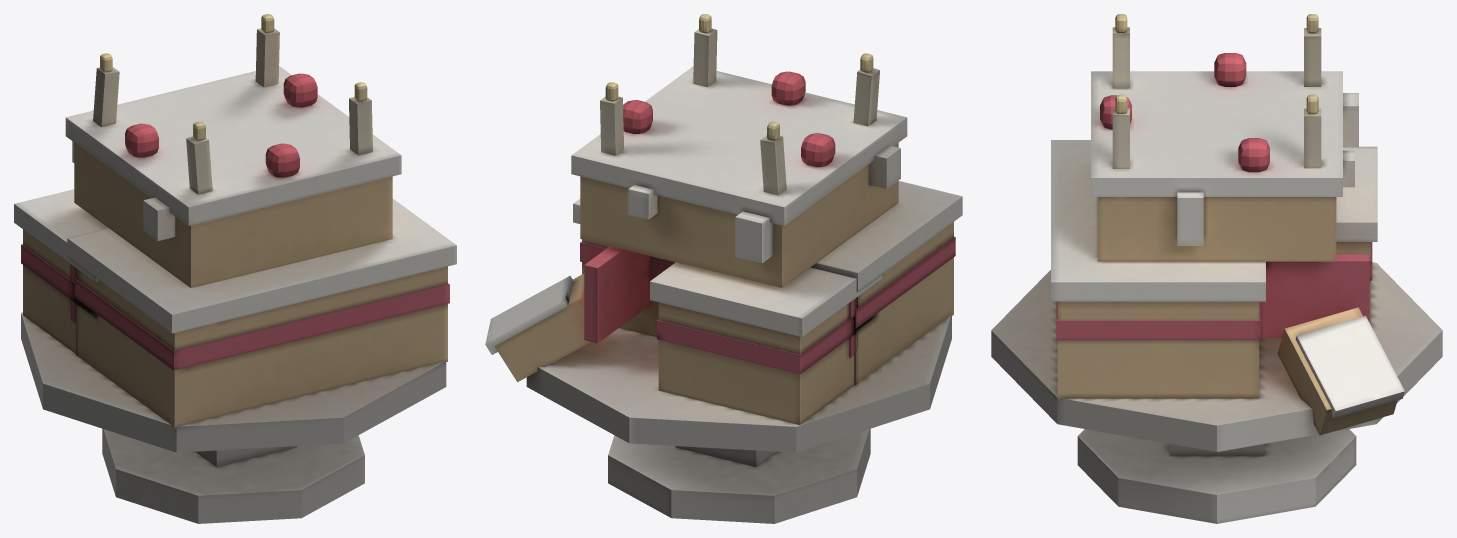
File: layercake.glb
3 renders of one model, left to right at view 1: azimuth 30°, elevation 25°; view 2: azimuth 150°, elevation 25°; view 3: azimuth 270°, elevation 25°, orthographic. The views are drawn at different scales.
Parts seen in each view (by area): view 1: layercake; view 2: layercake; view 3: layercake.
Boxes of the visible parts, left/top/right/bottom form: layercake: left=14, top=14, right=456, bottom=523; layercake: left=485, top=14, right=962, bottom=523; layercake: left=991, top=14, right=1442, bottom=523.
Size of the model in its own units: 3.4 by 3.4 by 3.4.
7 materials, 7 textured.
